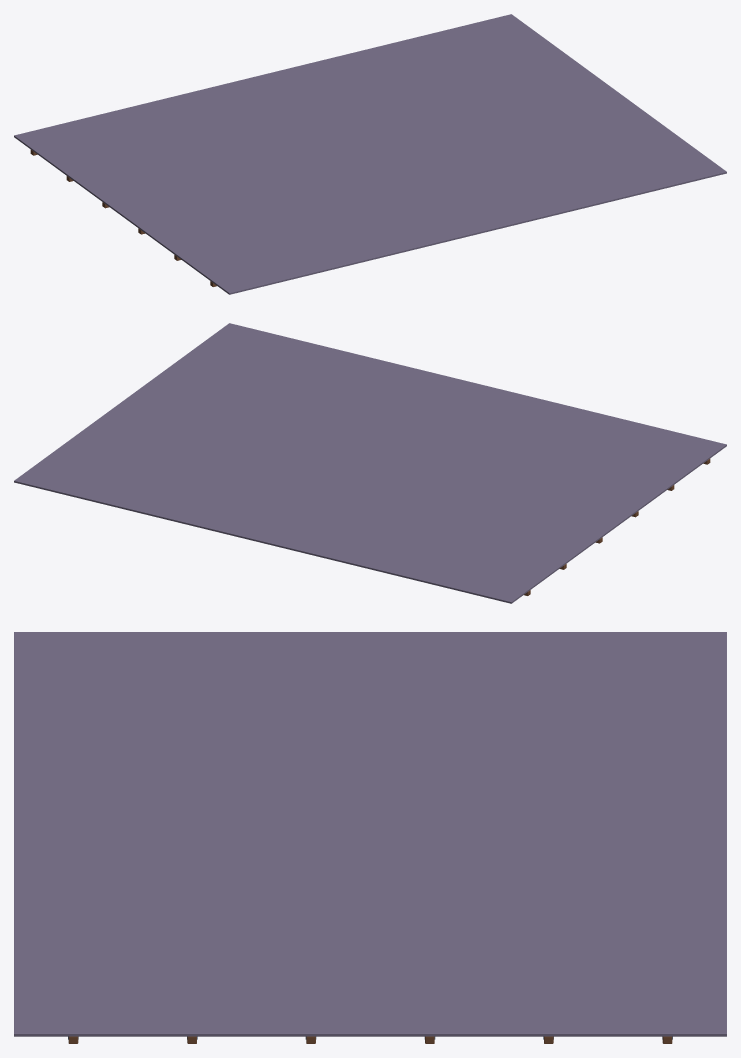
File: ceiling.glb
3 views of the same model, one above another, from view 1: azimuth 30°, elevation 25°; view 2: azimuth 150°, elevation 25°; view 3: azimuth 270°, elevation 25° (orthographic). The views are drawn at different scales.
Visible parts, largest first — view 1: Ceiling_slab; view 2: Ceiling_slab; view 3: Ceiling_slab.
Part boxes in pixels (<box>): Ceiling_slab: <box>14,14,726,294</box>; Ceiling_slab: <box>14,323,726,603</box>; Ceiling_slab: <box>14,632,726,1036</box>.
Bounding box in the file's own units: 24 × 0.32 × 18.
